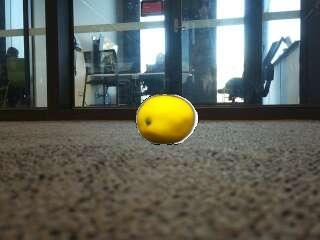lemon: (137, 102, 194, 144)
